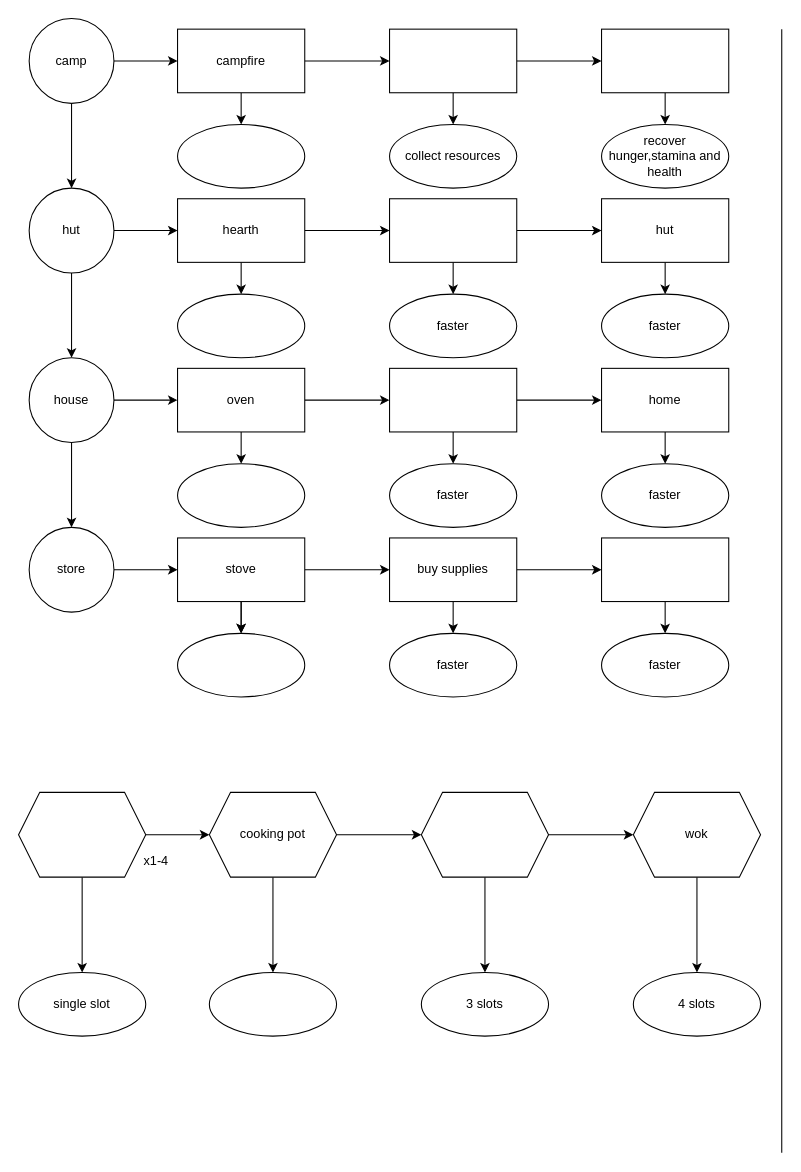
Some shapes in this 801 by 1172 pixel diagram are drawn without their labels. Each missing label, with the centre of its shape:
"2 stations" goes at pixel 240 325.
"3 stations" goes at pixel 240 495.
"4 stations" goes at pixel 240 664.
"cooking rack" goes at pixel 81 834.
"double slots" goes at pixel 272 1003.
"forage" goes at pixel 452 60.
"heat source" goes at pixel 240 155.
"hunt" goes at pixel 452 230.
"loft" goes at pixel 664 569.
"pan" goes at pixel 484 834.
"shop" goes at pixel 452 399.
"tent" goes at pixel 664 60.
